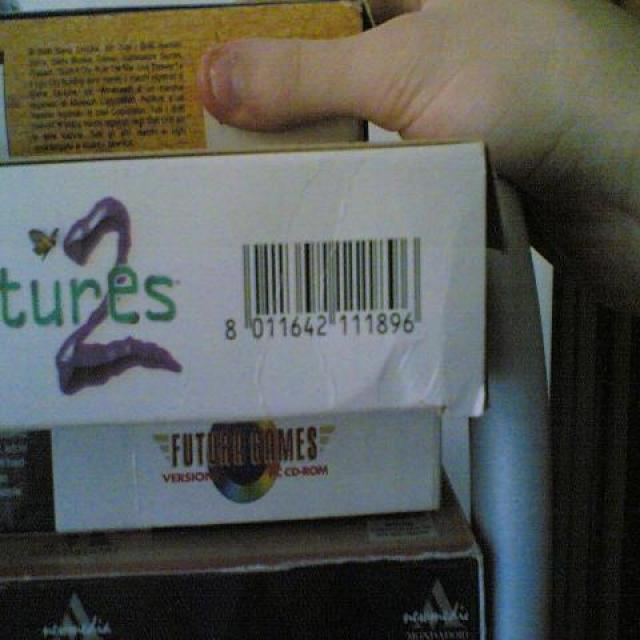Barcode: (222, 229, 429, 355)
